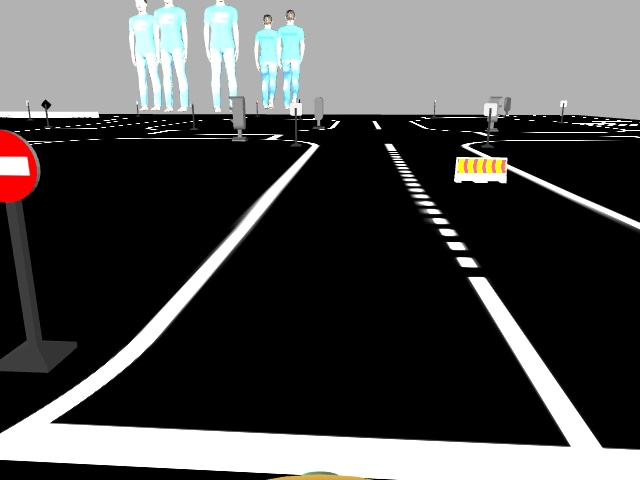ClosedRoadStand: (455, 155, 507, 184)
NoEntry: (0, 130, 40, 200)
